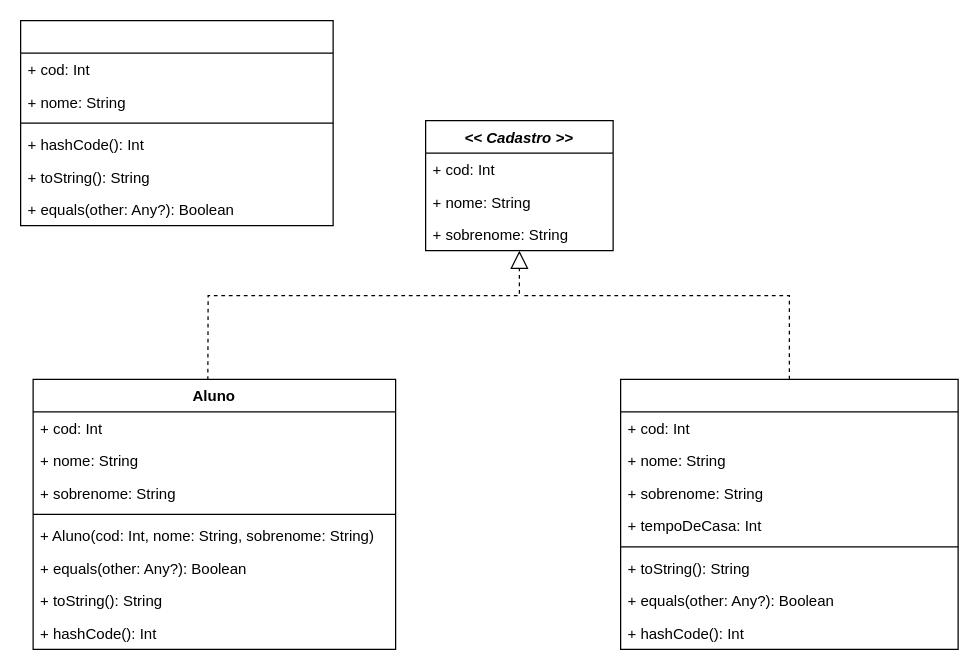
Some shapes in this 979 by 670 pixel diagram are drawn without their labels. The shapes that lost their labels are listed below. From the top down, each one's box as (x1, y1, x2, y2) in pixels, then its label:
(19, 19, 333, 226): Curso
(619, 378, 958, 649): Professor
